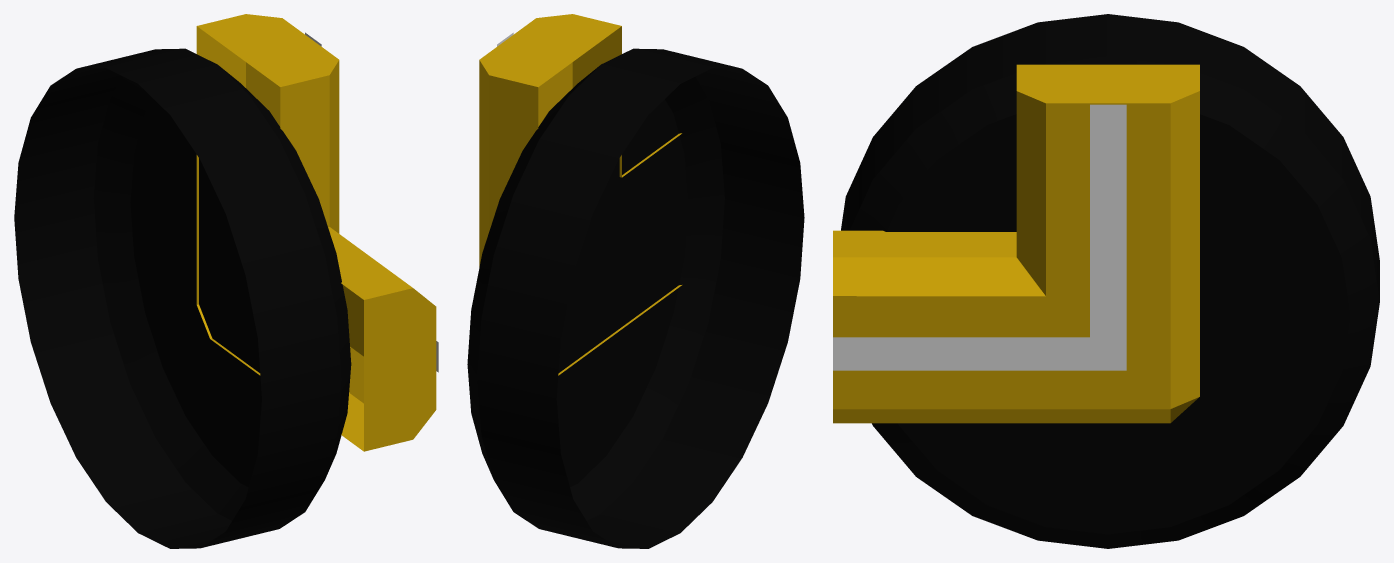
The model's file is EL_Panel_Switch_L.fbx.
3 views of the same model, side by side, from view 1: azimuth 30°, elevation 25°; view 2: azimuth 150°, elevation 25°; view 3: azimuth 270°, elevation 25° (orthographic). The views are drawn at different scales.
Visible parts, largest first — view 1: Electrical_Panel_Switch_T.004, Electrical_Panel_Switch_L.007; view 2: Electrical_Panel_Switch_T.004, Electrical_Panel_Switch_L.007; view 3: Electrical_Panel_Switch_T.004, Electrical_Panel_Switch_L.007.
Boxes of the visible parts, box(x1,y1,x2,y2) form: Electrical_Panel_Switch_T.004: box(14, 48, 351, 548); Electrical_Panel_Switch_L.007: box(196, 14, 438, 451); Electrical_Panel_Switch_T.004: box(467, 48, 804, 548); Electrical_Panel_Switch_L.007: box(479, 14, 681, 375); Electrical_Panel_Switch_T.004: box(841, 14, 1379, 548); Electrical_Panel_Switch_L.007: box(833, 64, 1199, 423).
Size of the model in its own units: 6.04 by 14.91 by 14.91.
